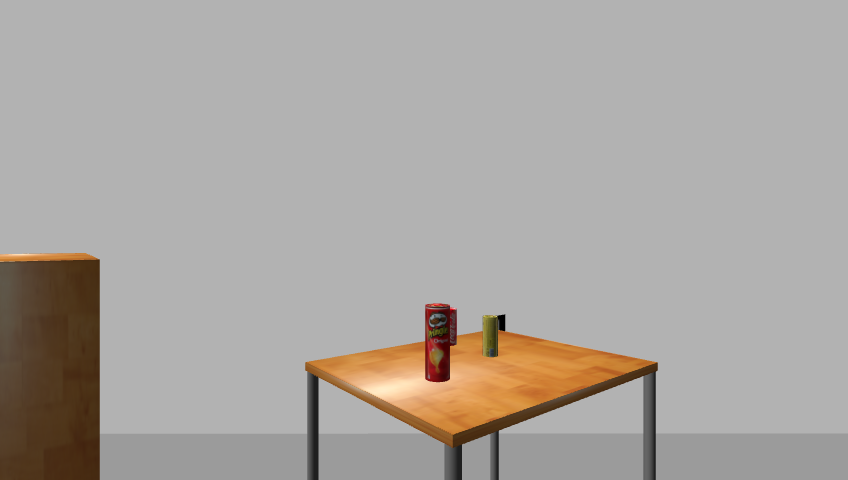aruco marker: (492, 314, 509, 336)
biscuits pack: (482, 315, 499, 358)
bookshelf: (0, 252, 107, 480)
coke can: (438, 305, 458, 347)
dinner table: (296, 331, 666, 479)
pringles can: (424, 304, 452, 384)
